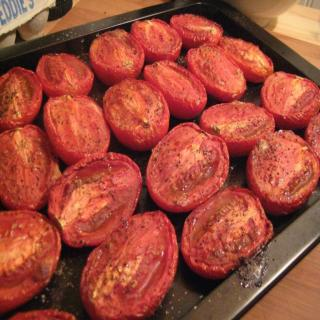tomato: (80, 209, 178, 319), (49, 151, 142, 249), (182, 186, 271, 276), (145, 121, 230, 214), (248, 124, 318, 212), (0, 207, 59, 309), (0, 125, 57, 210), (41, 95, 111, 164), (102, 81, 168, 152), (199, 100, 275, 152), (142, 59, 206, 116), (260, 67, 320, 126), (186, 46, 250, 98), (90, 26, 144, 82), (220, 35, 274, 86), (0, 66, 41, 125), (36, 52, 92, 94), (130, 20, 182, 60), (169, 12, 222, 47)
